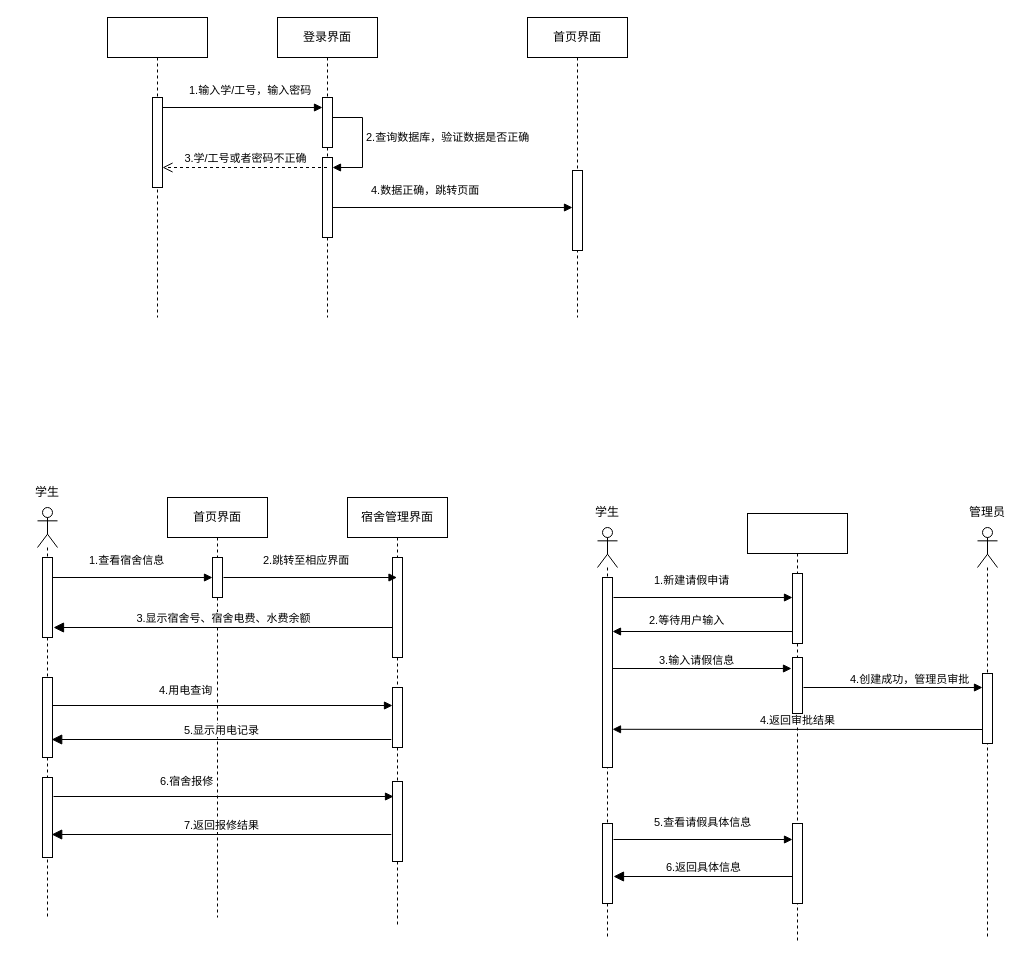
Image size: 1034x961. Some labels were removed from this diagram. The shapes that lost their labels are listed below. From the top down, each one's centre as x and y in pixels, then its label:
the point at 157,167: 用户
the point at 797,728: 请假界面
